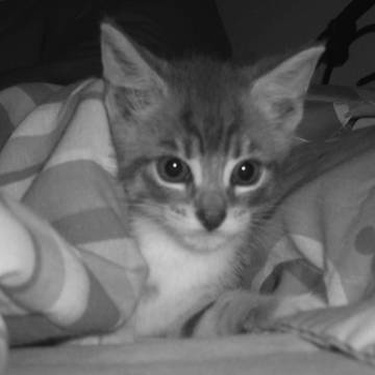cat: (10, 26, 319, 318)
